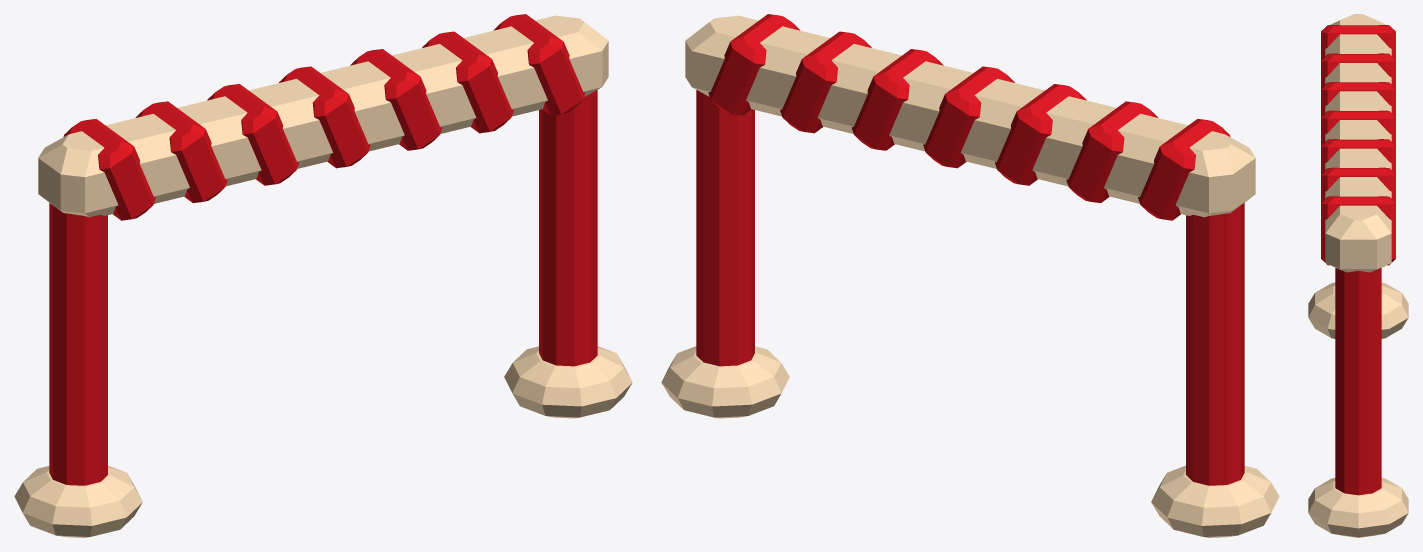
Rendered from barreira_doce.obj.
The picture shows the model from 3 angles, left to right: view 1: azimuth 30°, elevation 25°; view 2: azimuth 150°, elevation 25°; view 3: azimuth 270°, elevation 25°; orthographic projection. The views are drawn at different scales.
Parts seen in each view (by area): view 1: BarrierLeg, CrossbarCore, BarrierFoot, Stripe_7, Stripe_1, Stripe_4, Stripe_5, Stripe_6, Stripe_3, Stripe_2; view 2: BarrierLeg, CrossbarCore, BarrierFoot, Stripe_7, Stripe_1, Stripe_4, Stripe_5, Stripe_6, Stripe_3, Stripe_2; view 3: CrossbarCore, BarrierLeg, BarrierFoot, Stripe_7, Stripe_5, Stripe_3, Stripe_1, Stripe_2, Stripe_4, Stripe_6.
Part boxes in pixels (box(x1,y1,x2,y2)): BarrierLeg: box(49, 90, 597, 485); CrossbarCore: box(38, 15, 608, 217); BarrierFoot: box(14, 346, 632, 537); Stripe_7: box(493, 14, 585, 115); Stripe_1: box(63, 119, 155, 220); Stripe_4: box(279, 66, 370, 168); Stripe_5: box(350, 49, 442, 150); Stripe_6: box(422, 31, 513, 133); Stripe_3: box(207, 84, 298, 185); Stripe_2: box(135, 101, 227, 203); BarrierLeg: box(696, 90, 1244, 485); CrossbarCore: box(685, 15, 1255, 217); BarrierFoot: box(661, 346, 1279, 537); Stripe_7: box(708, 14, 800, 115); Stripe_1: box(1138, 119, 1230, 220); Stripe_4: box(923, 66, 1014, 168); Stripe_5: box(851, 49, 943, 150); Stripe_6: box(780, 31, 871, 133); Stripe_3: box(995, 84, 1086, 185); Stripe_2: box(1066, 101, 1158, 203); CrossbarCore: box(1325, 14, 1391, 272); BarrierLeg: box(1335, 268, 1381, 495); BarrierFoot: box(1308, 282, 1408, 537); Stripe_7: box(1321, 196, 1395, 265); Stripe_5: box(1321, 139, 1395, 173); Stripe_3: box(1321, 82, 1395, 116); Stripe_1: box(1321, 25, 1395, 59); Stripe_2: box(1321, 53, 1395, 88); Stripe_4: box(1321, 110, 1395, 145); Stripe_6: box(1321, 167, 1395, 202).
Size of the model in its own units: 2.58 by 1.6 by 0.4565.
